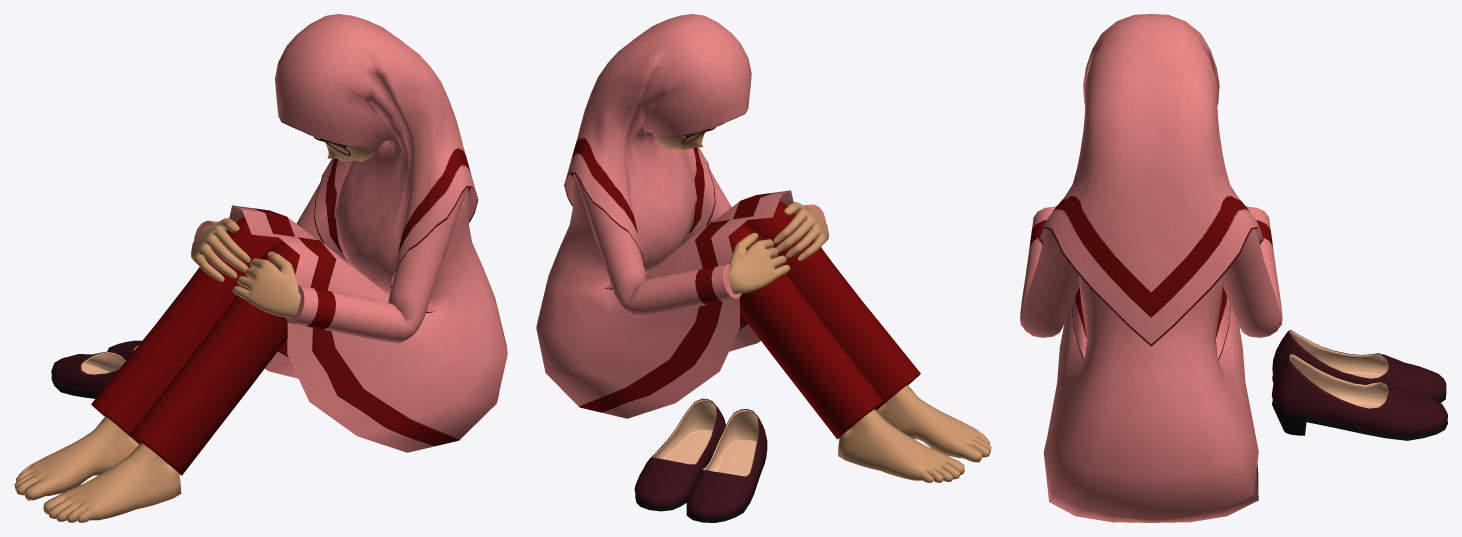
The model's file is girl.glb.
3 renders of one model, left to right at view 1: azimuth 30°, elevation 25°; view 2: azimuth 150°, elevation 25°; view 3: azimuth 270°, elevation 25°, orthographic. The views are drawn at different scales.
Visible parts, largest first — view 1: Object_3, Object_6, Object_2, Object_7; view 2: Object_3, Object_6, Object_2, Object_7; view 3: Object_3, Object_6, Object_7.
Part boxes in pixels (x1=…): Object_3: x1=91, y1=182, x2=507, y2=475; Object_6: x1=275, y1=14, x2=478, y2=313; Object_2: x1=14, y1=132, x2=378, y2=522; Object_7: x1=51, y1=340, x2=141, y2=398; Object_3: x1=536, y1=169, x2=920, y2=439; Object_6: x1=564, y1=14, x2=751, y2=289; Object_2: x1=655, y1=123, x2=991, y2=482; Object_7: x1=634, y1=398, x2=767, y2=522; Object_3: x1=1020, y1=207, x2=1282, y2=522; Object_6: x1=1039, y1=14, x2=1263, y2=360; Object_7: x1=1271, y1=330, x2=1447, y2=440.
Bounding box in the file's own units: 0.839 × 0.7257 × 0.6181.
6 materials, 6 textured.
